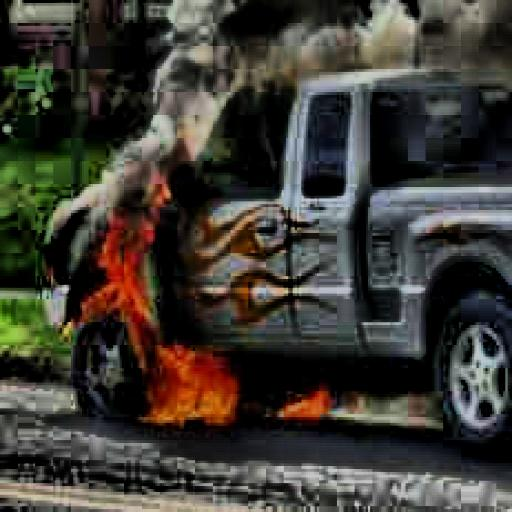fire: (56, 178, 175, 328), (137, 342, 246, 458), (270, 365, 342, 443)
